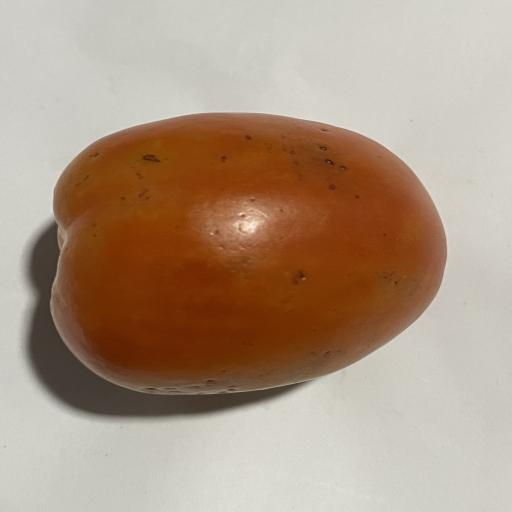unripe: (51, 113, 446, 395)
